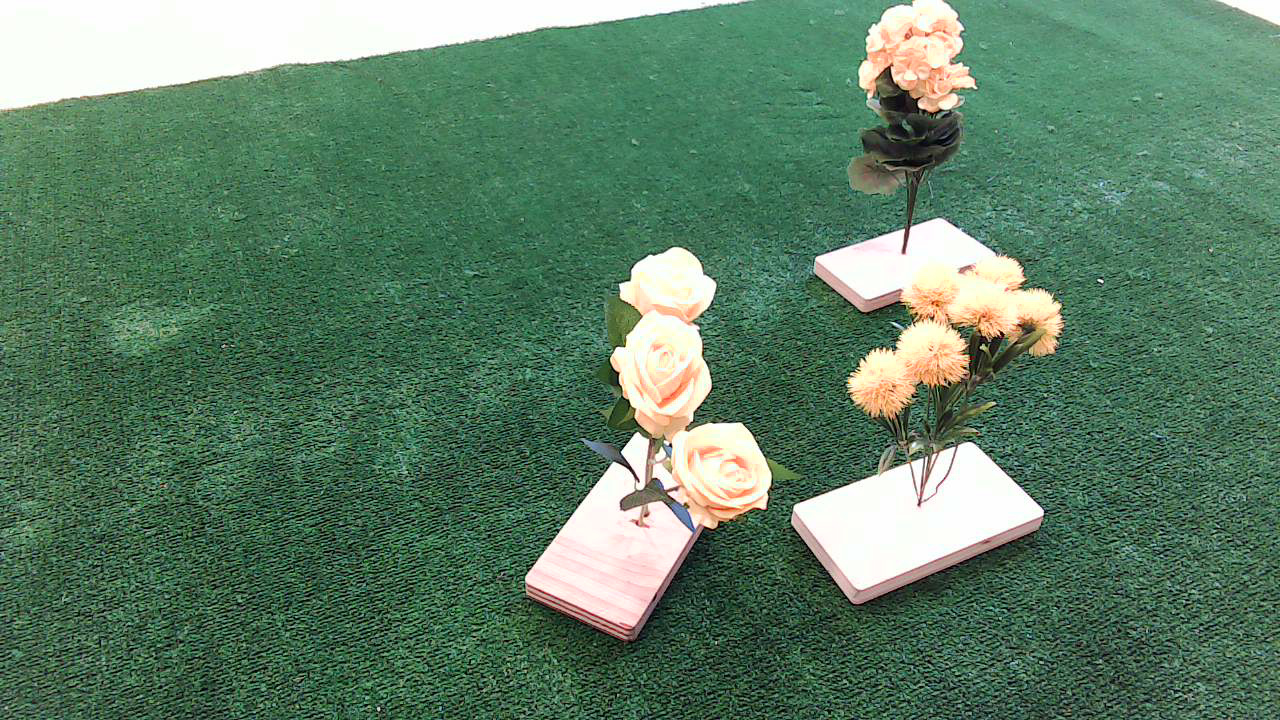dandelion: (851, 261, 1073, 490)
geranium: (841, 9, 987, 197)
rose: (577, 245, 813, 549)
